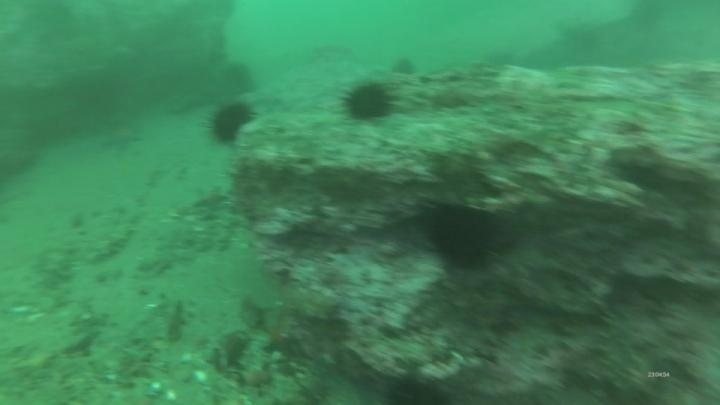echinus: (421, 199, 504, 275), (339, 78, 396, 125), (204, 99, 256, 147), (218, 59, 258, 98), (389, 54, 418, 79)
starfish: (96, 119, 147, 157), (191, 184, 232, 213)
